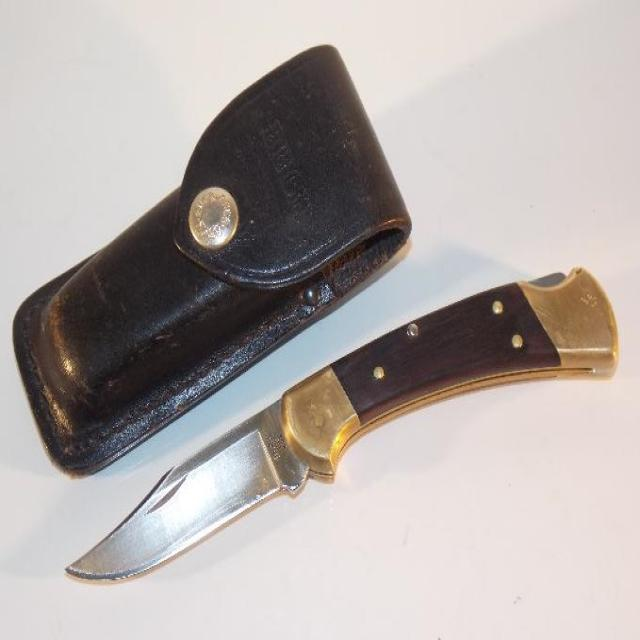knife: (65, 253, 626, 592)
